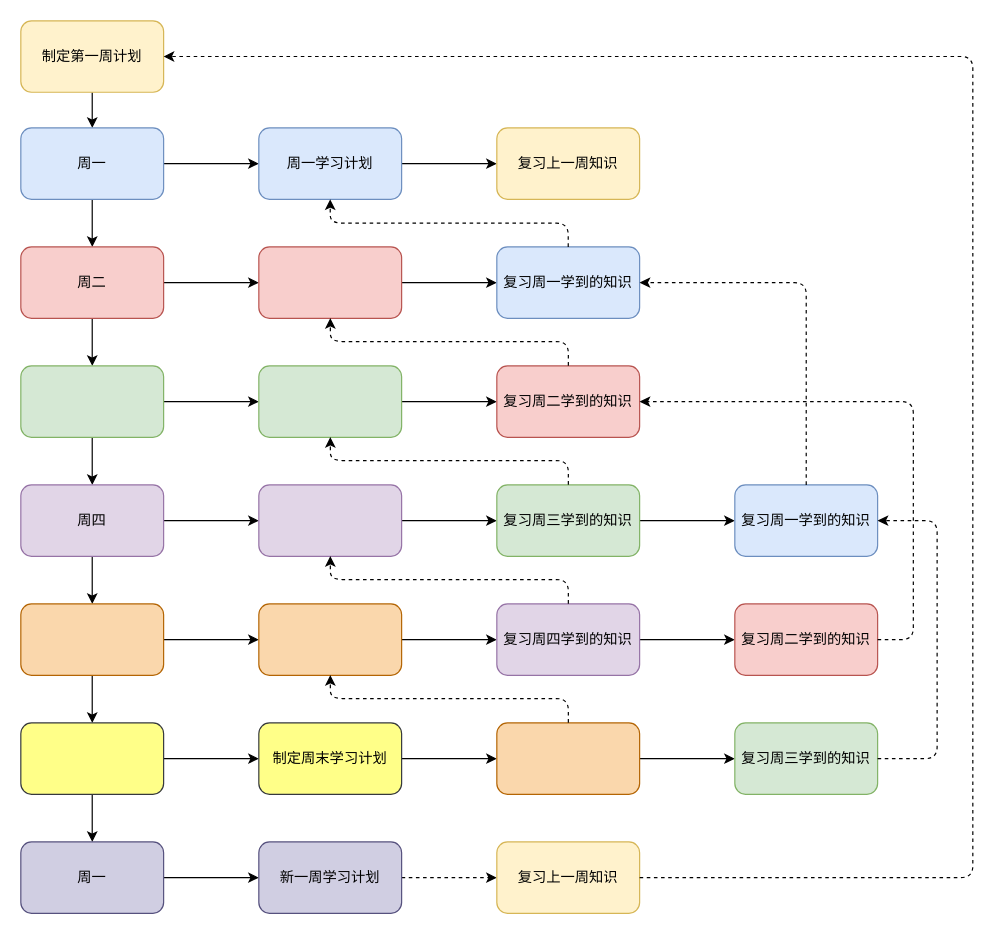
Image size: 1003x934. Some labels were removed from this diagram. The centre of each missing label's shape, as x and y in pixels:
"周三" belongs at pixel 92 401.
"周三学习计划" belongs at pixel 330 401.
"周二学习计划" belongs at pixel 330 282.
"周五" belongs at pixel 92 639.
"周五学习计划" belongs at pixel 330 639.
"周六日" belongs at pixel 92 758.
"周四学习计划" belongs at pixel 330 520.
"复习周五学到的知识" belongs at pixel 568 758.
